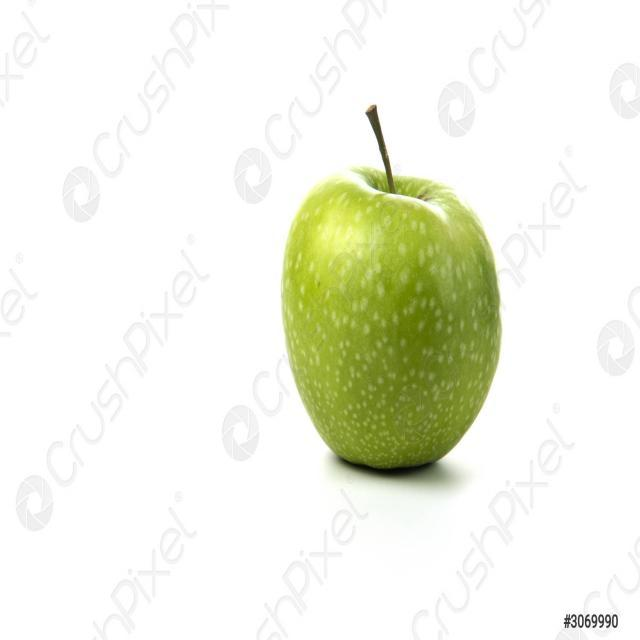Fresh Apple: (287, 145, 505, 495)
